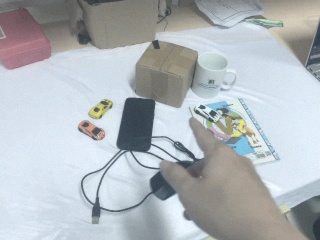box: (189, 95, 284, 167), (68, 1, 162, 51), (134, 40, 197, 109), (1, 6, 54, 74)
cup: (191, 52, 230, 100)
mouse: (148, 170, 177, 201)
phone: (115, 97, 156, 153)
toy_car: (77, 119, 106, 141), (192, 101, 222, 122), (88, 98, 114, 120)
